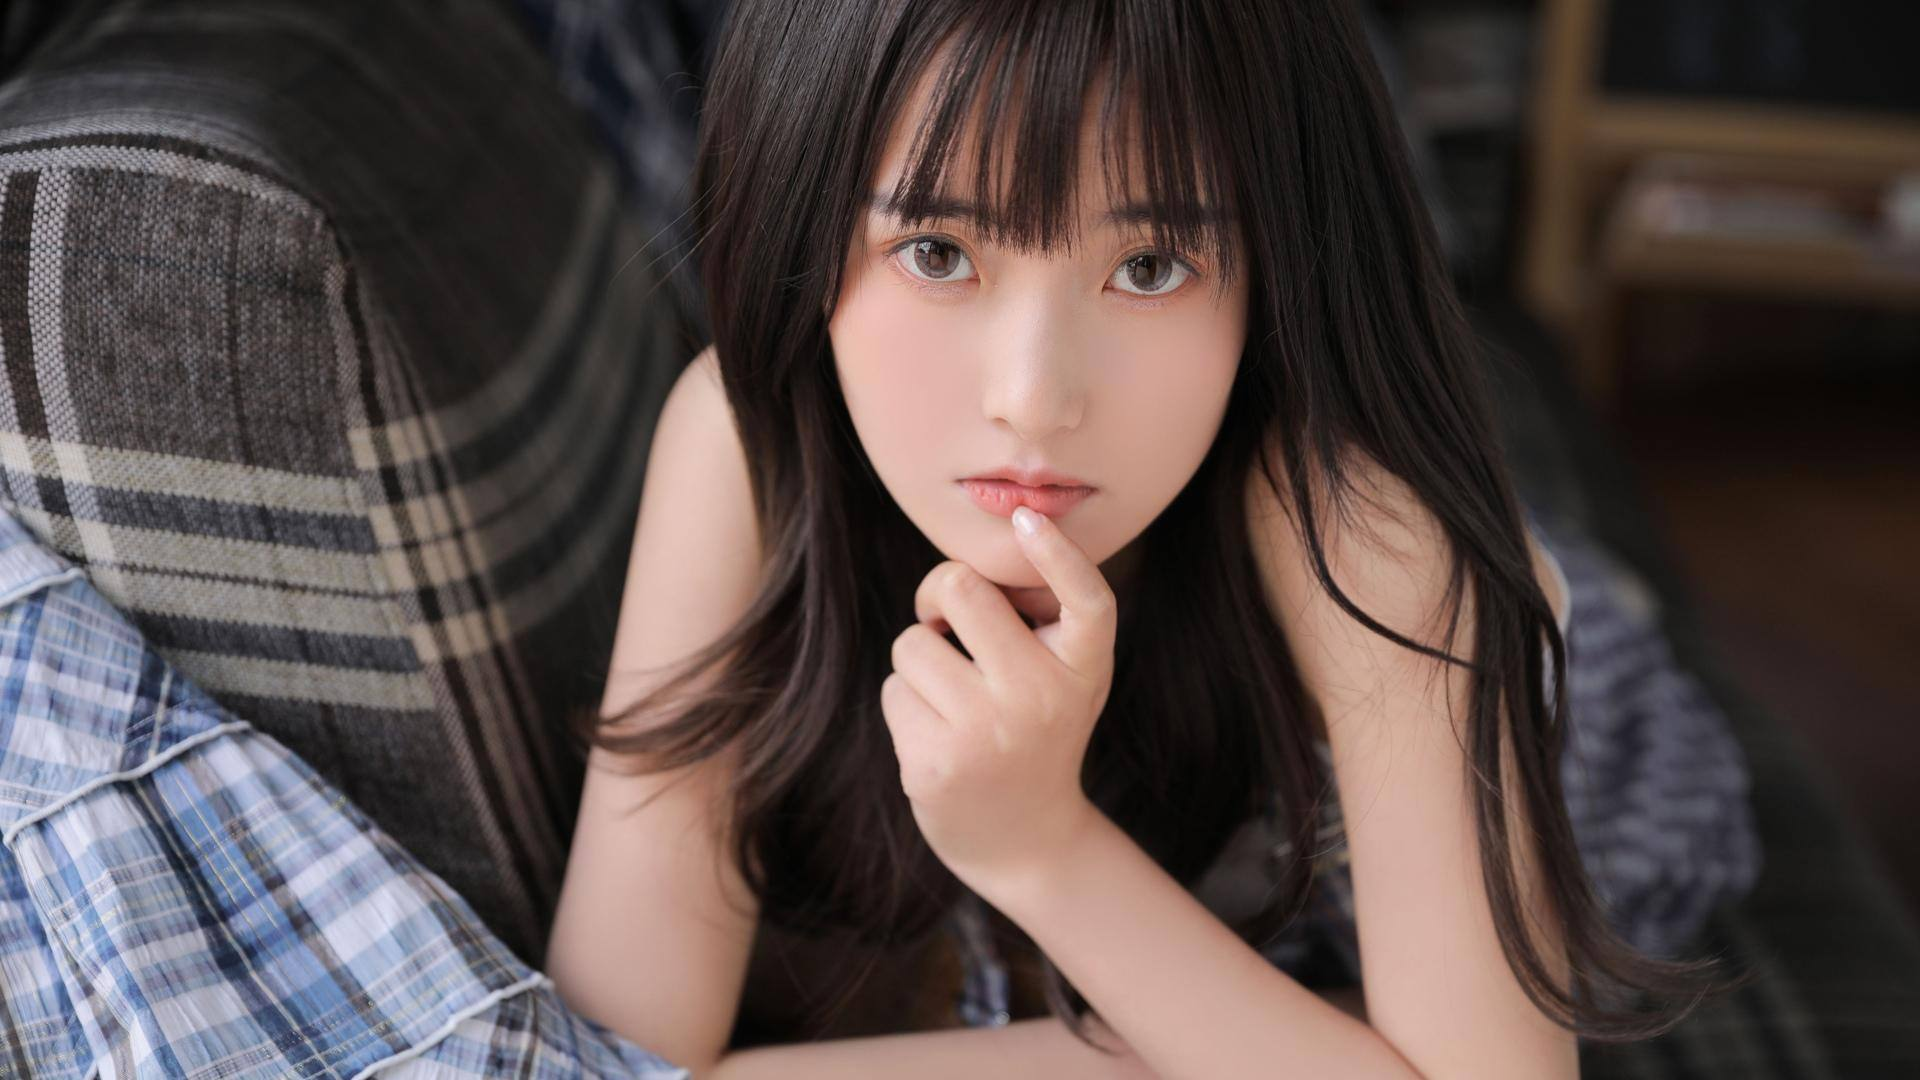person: (580, 9, 1591, 1009)
